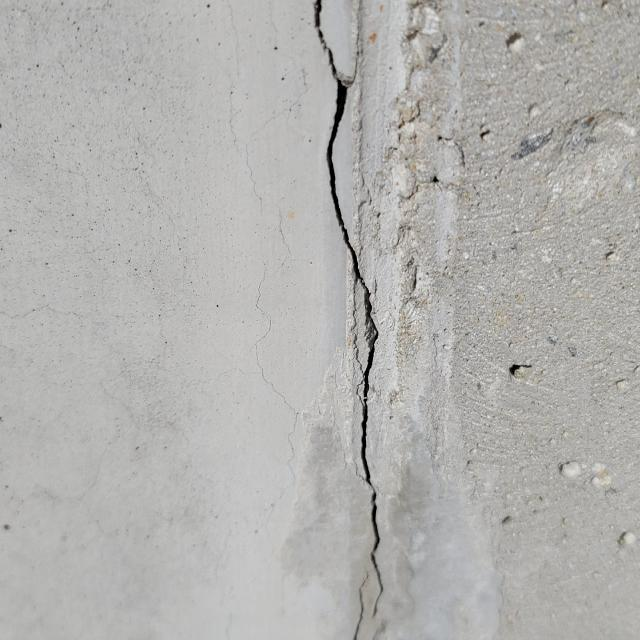SurfaceCrack: (278, 0, 430, 640)
